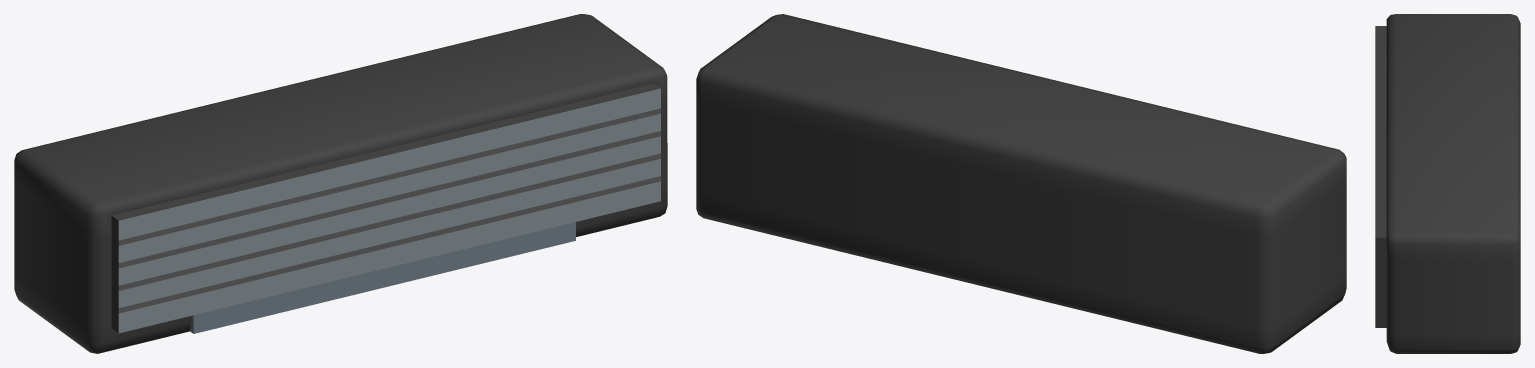
Rendered from Air-Conditioning.fbx.
3 renders of one model, left to right at view 1: azimuth 30°, elevation 25°; view 2: azimuth 150°, elevation 25°; view 3: azimuth 270°, elevation 25°, orthographic. The views are drawn at different scales.
Visible parts, largest first — view 1: Air-Conditioning; view 2: Air-Conditioning; view 3: Air-Conditioning.
Part boxes in pixels (x1,y1,x2,y2): Air-Conditioning: (14, 14, 667, 353); Air-Conditioning: (696, 14, 1346, 353); Air-Conditioning: (1375, 14, 1520, 353).
Size of the model in its own units: 2.39 by 0.5967 by 0.6474.
